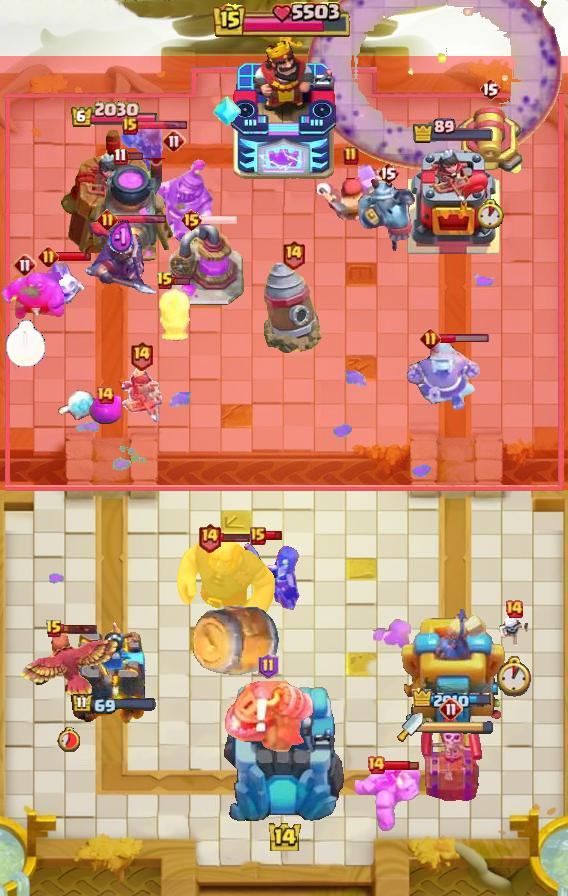balloon: (174, 533, 280, 631)
bar: (401, 601, 505, 731)
bat: (56, 388, 102, 424)
clock: (213, 2, 355, 40)
dirt: (190, 604, 282, 678)
electro-spirit: (110, 219, 135, 257)
elixir: (6, 320, 47, 368), (495, 655, 534, 696), (477, 199, 503, 229), (57, 726, 82, 752)
elixir-collector: (405, 337, 481, 413)
elixir-golem-big: (82, 219, 160, 297)
elixir-golem-small: (358, 175, 418, 253)
emote: (136, 120, 188, 132), (115, 215, 167, 226), (438, 332, 489, 343), (201, 214, 239, 226), (61, 623, 99, 635), (56, 251, 92, 263), (385, 759, 420, 771), (218, 532, 254, 543), (264, 530, 283, 541), (124, 151, 143, 161), (173, 276, 192, 286)
executioner: (157, 285, 193, 345)
golden-knight: (16, 628, 122, 706)
heal-spirit: (497, 613, 531, 649)
hog-rider: (118, 124, 166, 174)
hunter: (87, 158, 177, 266)
king-tower: (221, 682, 347, 826), (230, 41, 338, 181)
king-tower-bar: (423, 720, 495, 734)
magic-archer: (263, 261, 323, 355)
mighty-miner: (317, 164, 385, 226)
miner: (89, 394, 121, 424)
mirror: (42, 258, 84, 308)
night-witch: (221, 678, 315, 752)
pad_2: (213, 94, 241, 128)
pekka: (166, 225, 244, 307)
queen-tower: (59, 128, 169, 256), (403, 146, 503, 256), (72, 619, 156, 731)
rascal-boy: (241, 541, 303, 613)
rocket: (306, 0, 562, 170)
royal-guardian: (134, 155, 214, 247)
royal-recruit: (454, 105, 526, 179)
selected: (69, 101, 158, 129), (413, 118, 496, 144), (71, 692, 157, 715), (412, 688, 494, 712)
skeleton-dragon: (119, 368, 163, 428)
skeleton-king-bar: (420, 715, 482, 801)
text: (282, 238, 307, 269), (197, 522, 222, 553), (130, 340, 154, 371), (162, 129, 186, 153), (13, 253, 37, 277), (439, 697, 463, 721), (257, 653, 279, 679), (180, 208, 203, 232), (479, 77, 501, 101), (377, 161, 399, 185), (37, 245, 59, 266), (419, 327, 440, 349), (98, 210, 119, 231), (95, 385, 115, 405), (504, 599, 524, 619), (366, 755, 386, 775), (156, 271, 174, 291), (45, 619, 63, 639), (343, 146, 359, 166), (122, 117, 138, 135), (250, 527, 266, 545), (113, 147, 128, 165)
tornado: (0, 271, 64, 321)
valkyrie-evolution: (355, 761, 423, 833)
